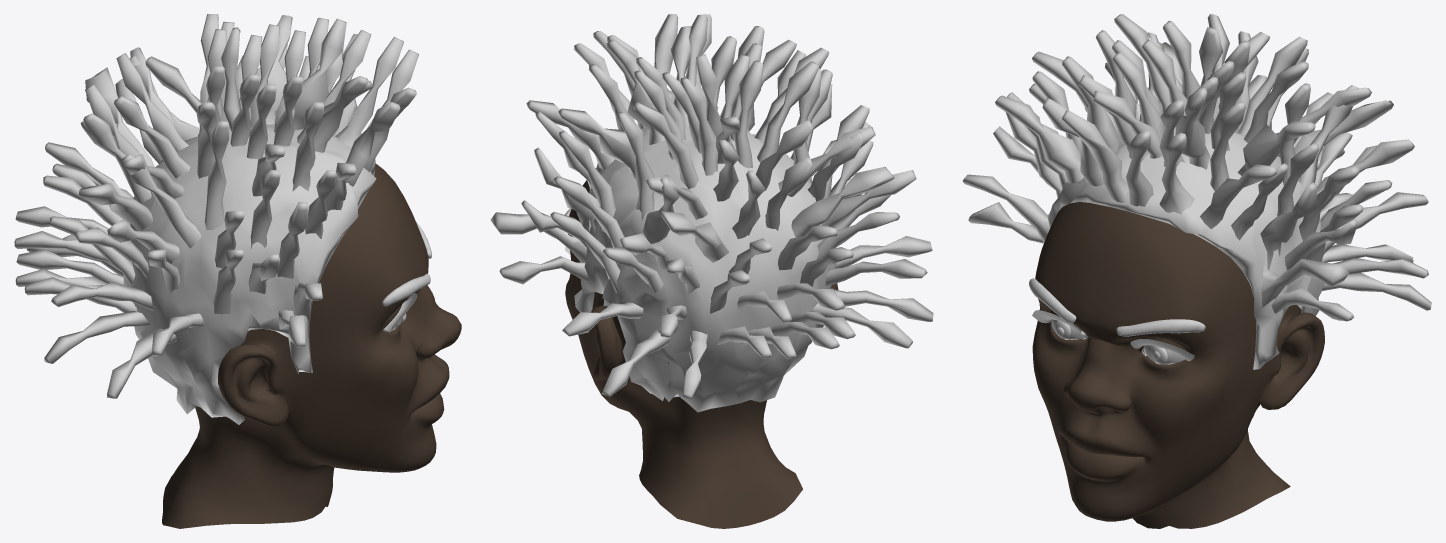
The model's file is ishowspeed2.obj.
The picture shows the model from 3 angles, left to right: view 1: azimuth 30°, elevation 25°; view 2: azimuth 150°, elevation 25°; view 3: azimuth 270°, elevation 25°; orthographic projection. The views are drawn at different scales.
Parts seen in each view (by area): view 1: CC_Base_Hair.001, CC_Base_Body, Toon_Eyebrows; view 2: CC_Base_Hair.001, CC_Base_Body; view 3: CC_Base_Hair.001, CC_Base_Body, Toon_Eyebrows, CC_Base_eyelids.001.
Part boxes in pixels (left/top/right/bottom): CC_Base_Hair.001: left=14, top=14, right=418, bottom=424; CC_Base_Body: left=162, top=163, right=461, bottom=528; Toon_Eyebrows: left=382, top=222, right=431, bottom=306; CC_Base_Hair.001: left=490, top=14, right=933, bottom=412; CC_Base_Body: left=565, top=180, right=838, bottom=528; CC_Base_Hair.001: left=962, top=14, right=1431, bottom=369; CC_Base_Body: left=1032, top=202, right=1324, bottom=528; Toon_Eyebrows: left=1029, top=278, right=1205, bottom=336; CC_Base_eyelids.001: left=1032, top=310, right=1194, bottom=361.
Size of the model in its own units: 0.2558 by 0.3112 by 0.2751.
